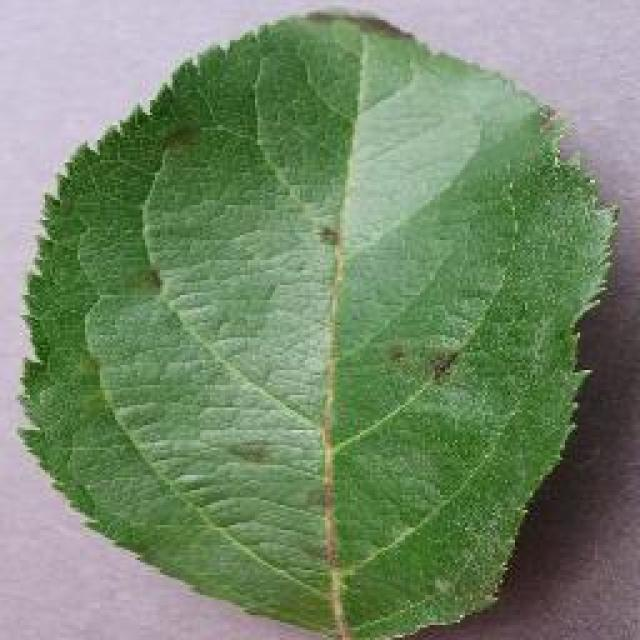apple scab disease: (15, 5, 620, 637)
